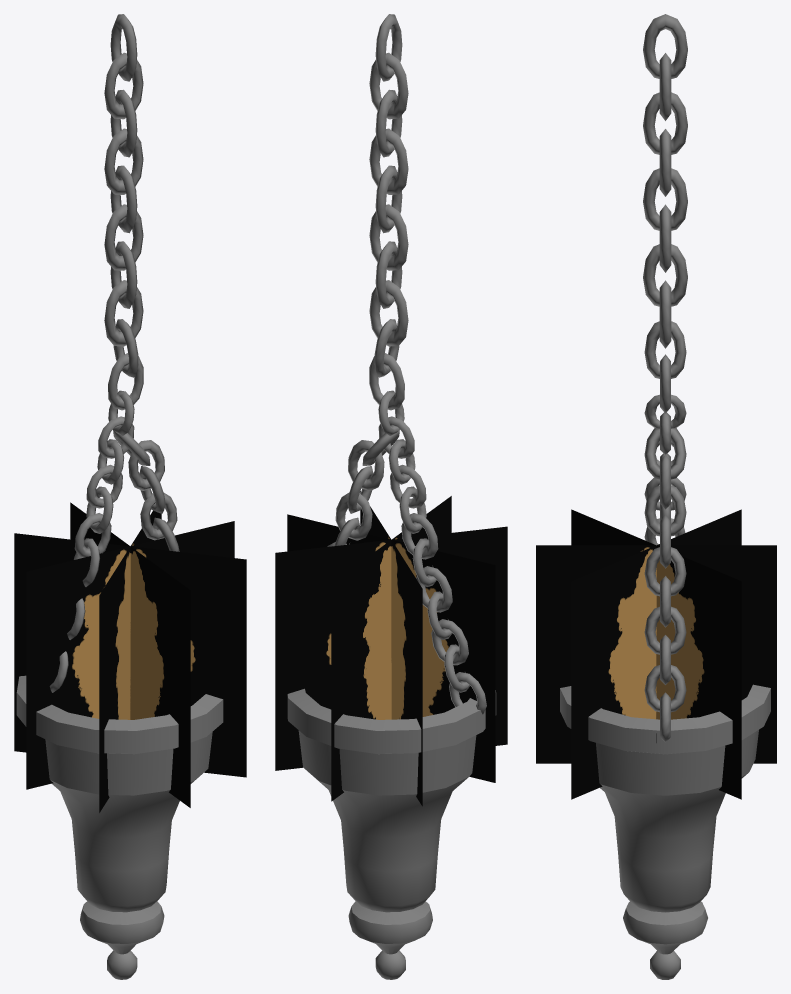
The model's file is SM_brazier_hanging.fbx.
3 renders of one model, left to right at view 1: azimuth 30°, elevation 25°; view 2: azimuth 150°, elevation 25°; view 3: azimuth 270°, elevation 25°, orthographic.
Visible parts, largest first — view 1: Object32917; view 2: Object32917; view 3: Object32917.
Boxes of the visible parts, box(x1,y1,x2,y2) form: Object32917: box(14, 14, 246, 979); Object32917: box(275, 14, 507, 979); Object32917: box(536, 14, 776, 979).
Size of the model in its own units: 24.78 by 110 by 24.78.
